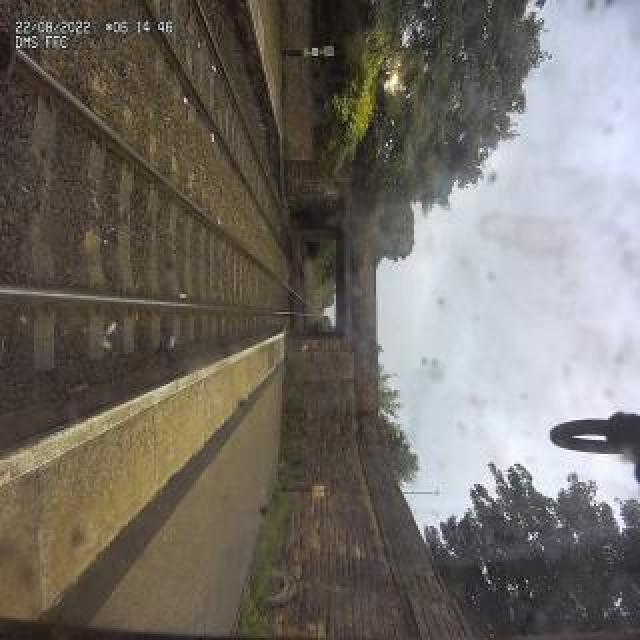Station-lights-ON: (388, 59, 400, 89)
